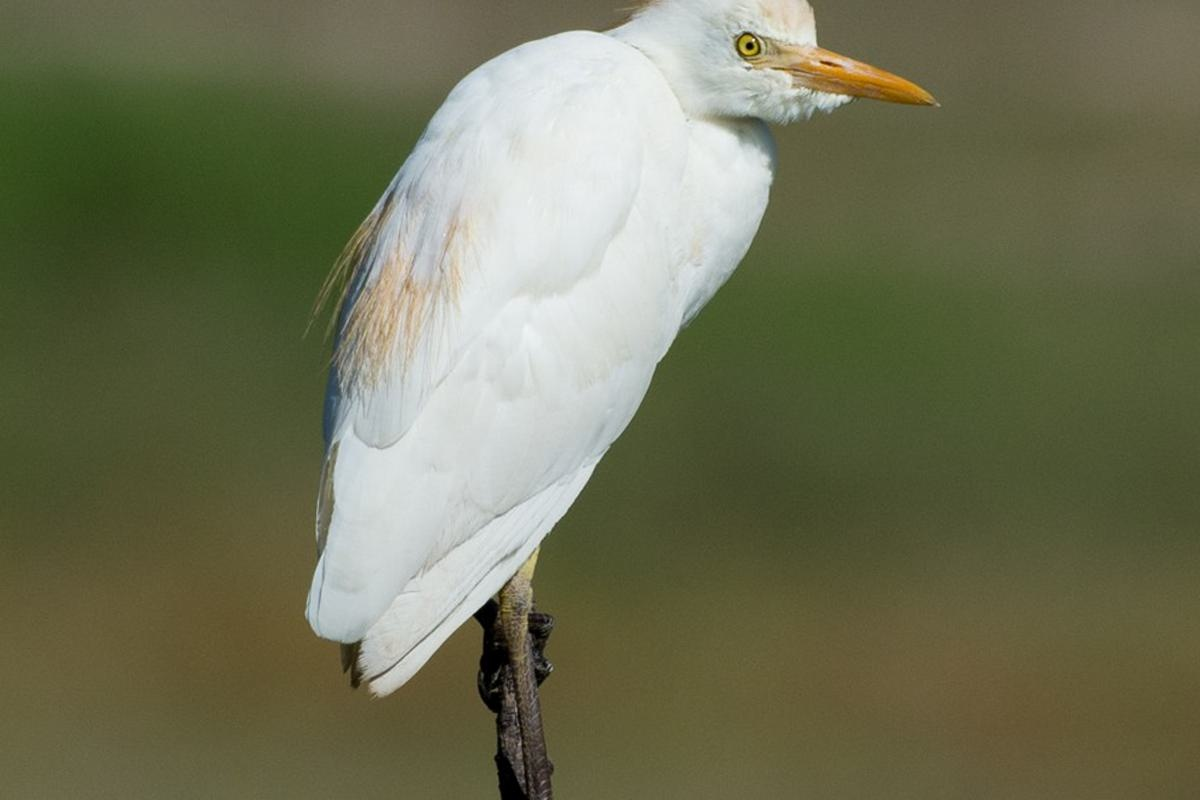egret: (297, 1, 942, 800)
